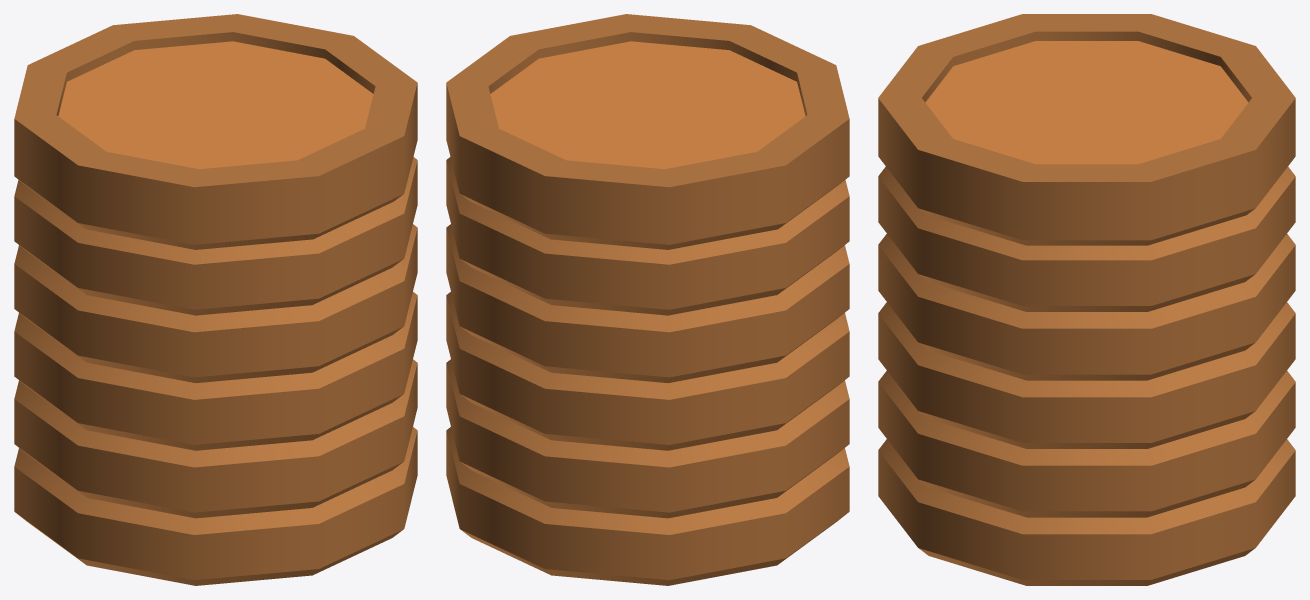
The model's file is Coin_Tower_03.fbx.
3 renders of one model, left to right at view 1: azimuth 30°, elevation 25°; view 2: azimuth 150°, elevation 25°; view 3: azimuth 270°, elevation 25°, orthographic.
Parts seen in each view (by area): view 1: Coin_Tower_03; view 2: Coin_Tower_03; view 3: Coin_Tower_03.
Boxes of the visible parts, bbox=[...] form: Coin_Tower_03: bbox=[14, 14, 417, 585]; Coin_Tower_03: bbox=[446, 14, 849, 585]; Coin_Tower_03: bbox=[878, 14, 1295, 585].
Bounding box in the file's own units: 0.0413 × 0.047 × 0.0435.
